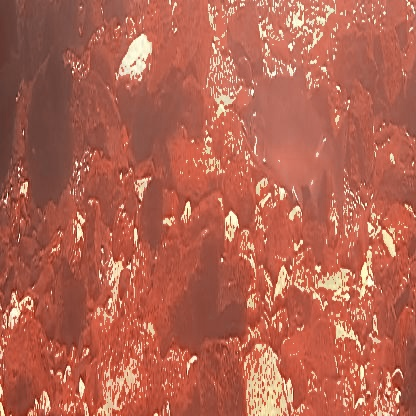salmon: (238, 50, 352, 237)
